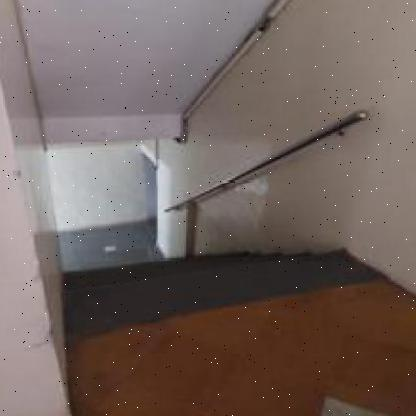stair_down: (60, 233, 305, 321)
